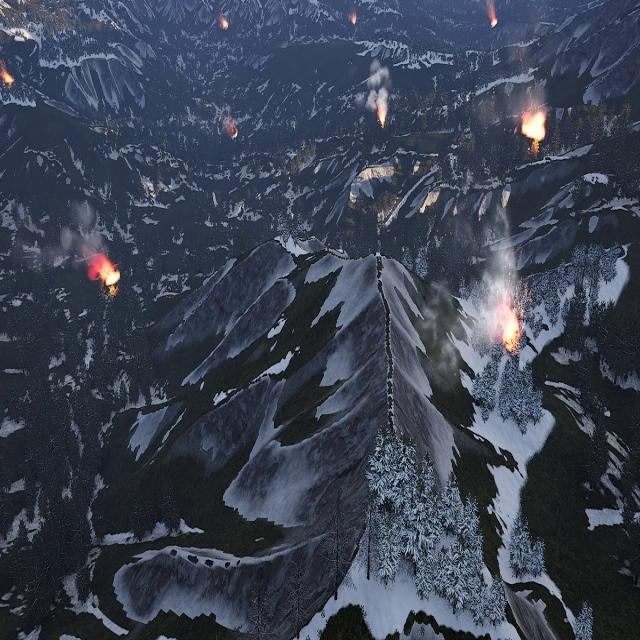fire: (496, 308, 519, 351), (522, 110, 546, 142), (96, 260, 119, 290), (228, 117, 238, 137), (2, 70, 13, 86), (379, 107, 387, 126), (490, 10, 498, 27), (219, 15, 228, 29), (502, 191, 509, 209), (351, 12, 357, 24)
smoke: (420, 205, 519, 387), (55, 197, 107, 269), (495, 78, 547, 119), (359, 59, 390, 112), (484, 0, 496, 18)
